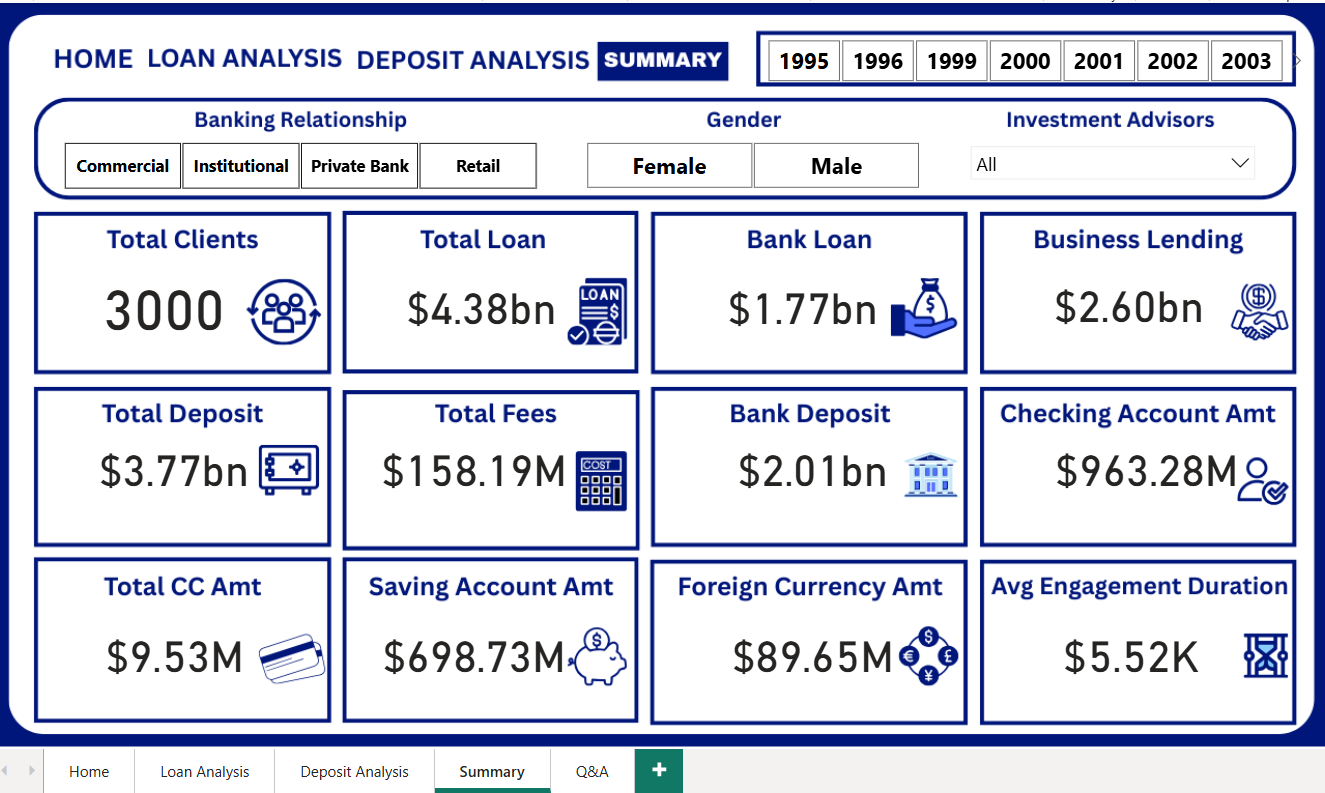

Layout of this report page (visuals, bound fields, positions):
{"tool":"powerbi","page":{"name":"Summary","canvas":[1280,720],"ordinal":3},"visuals":[{"type":"card","fields":{"Values":["Explicit Measures.Total Loan"]},"box":[351.3,253.9,227.8,74.1],"z":1000},{"type":"card","fields":{"Values":["Sum(public banking.bank_loans)"]},"box":[661.4,253.9,227.8,74.1],"z":2000},{"type":"card","fields":{"Values":["Sum(public banking.business_lending)"]},"box":[975.6,252.5,227.8,74.1],"z":3000},{"type":"card","fields":{"Values":["Explicit Measures.Total Deposit"]},"box":[54.9,410.3,227.8,74.1],"z":4000},{"type":"card","fields":{"Values":["Sum(public banking.bank_deposits)"]},"box":[671,410.3,227.8,74.1],"z":5000},{"type":"card","fields":{"Values":["Explicit Measures.Total Fees"]},"box":[344.4,410.3,227.8,74.1],"z":6000},{"type":"card","fields":{"Values":["Sum(public banking.checking_accounts)"]},"box":[1001.7,410.3,211.3,74.1],"z":7000},{"type":"card","fields":{"Values":["Sum(public banking.credit_card_balance)"]},"box":[54.9,590.1,229.2,74.1],"z":8000},{"type":"card","fields":{"Values":["Sum(public banking.saving_accounts)"]},"box":[344.4,590.1,227.8,74.1],"z":9000},{"type":"card","fields":{"Values":["Sum(public banking.foreign_currency_account)"]},"box":[671,590.1,227.8,74.1],"z":10000},{"type":"card","fields":{"Values":["Explicit Measures.Avg Engagement Days"]},"box":[1001.7,588.7,181.1,75.5],"z":11000},{"type":"slicer","fields":{"Values":["public banking.joined_bank_Year"]},"box":[715.4,29,546.5,53.1],"z":12000},{"type":"slicer","fields":{"Values":["public banking.Banking Relationship"]},"box":[36.2,127.9,505.5,57.9],"z":13000},{"type":"slicer","fields":{"Values":["public banking.genderid"]},"box":[540.7,127.6,370.5,57.6],"z":14000},{"type":"slicer","fields":{"Values":["public banking.Investment Advisors"]},"box":[926.2,127.6,295,57.6],"z":15000},{"type":"actionButton","box":[35.7,34.3,100.2,39.8],"z":16000},{"type":"actionButton","box":[135.8,34.3,201.7,39.8],"z":17000},{"type":"actionButton","box":[337.6,35.7,241.5,39.8],"z":18000},{"type":"card","fields":{"Values":["CountNonNull(public banking.name)"]},"box":[83.7,253.9,150.9,72.7],"z":18500}]}

Visuals, with their boxes on the page's 1280x720 design canvas (x1, y1, x2, y2). These are canvas units, not pixel positions in the 1325x793 screenshot, which may show the page scaled, cropped or inside an application window:
card - Explicit Measures.Total Loan: BBox(351, 254, 579, 328)
card - Sum(public banking.bank_loans): BBox(661, 254, 889, 328)
card - Sum(public banking.business_lending): BBox(976, 252, 1203, 327)
card - Explicit Measures.Total Deposit: BBox(55, 410, 283, 484)
card - Sum(public banking.bank_deposits): BBox(671, 410, 899, 484)
card - Explicit Measures.Total Fees: BBox(344, 410, 572, 484)
card - Sum(public banking.checking_accounts): BBox(1002, 410, 1213, 484)
card - Sum(public banking.credit_card_balance): BBox(55, 590, 284, 664)
card - Sum(public banking.saving_accounts): BBox(344, 590, 572, 664)
card - Sum(public banking.foreign_currency_account): BBox(671, 590, 899, 664)
card - Explicit Measures.Avg Engagement Days: BBox(1002, 589, 1183, 664)
slicer - public banking.joined_bank_Year: BBox(715, 29, 1262, 82)
slicer - public banking.Banking Relationship: BBox(36, 128, 542, 186)
slicer - public banking.genderid: BBox(541, 128, 911, 185)
slicer - public banking.Investment Advisors: BBox(926, 128, 1221, 185)
actionButton: BBox(36, 34, 136, 74)
actionButton: BBox(136, 34, 338, 74)
actionButton: BBox(338, 36, 579, 76)
card - CountNonNull(public banking.name): BBox(84, 254, 235, 327)
